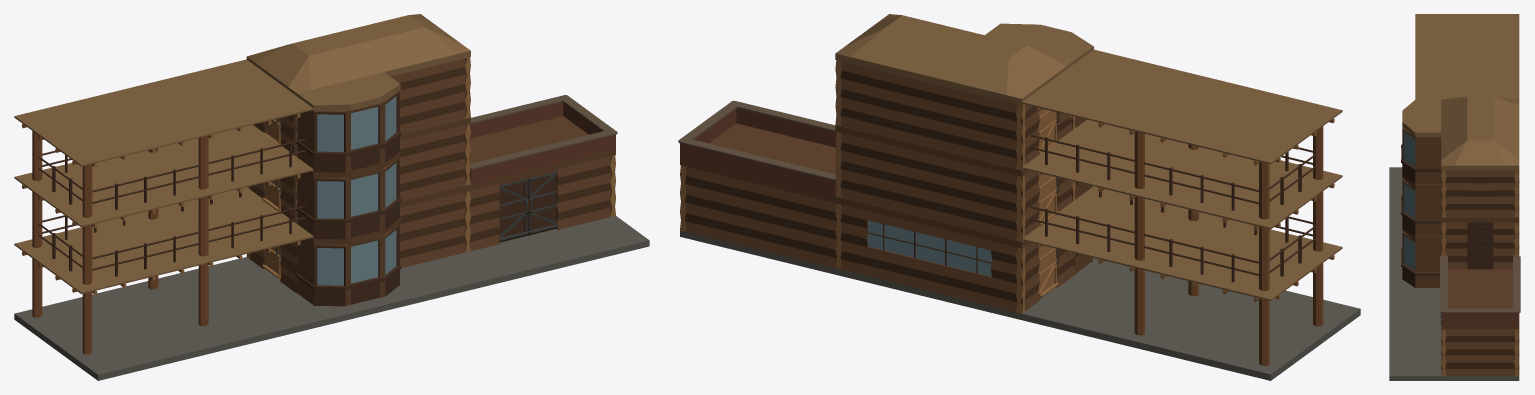
The model's file is casa 7.fbx.
The picture shows the model from 3 angles, left to right: view 1: azimuth 30°, elevation 25°; view 2: azimuth 150°, elevation 25°; view 3: azimuth 270°, elevation 25°; orthographic projection. The views are drawn at different scales.
Parts seen in each view (by area): view 1: Cube.047; view 2: Cube.047; view 3: Cube.047.
Part boxes in pixels (bbox=[...]): Cube.047: bbox=[14, 14, 649, 380]; Cube.047: bbox=[678, 14, 1360, 380]; Cube.047: bbox=[1389, 14, 1520, 380].
Size of the model in its own units: 3810 by 1480 by 1010.
